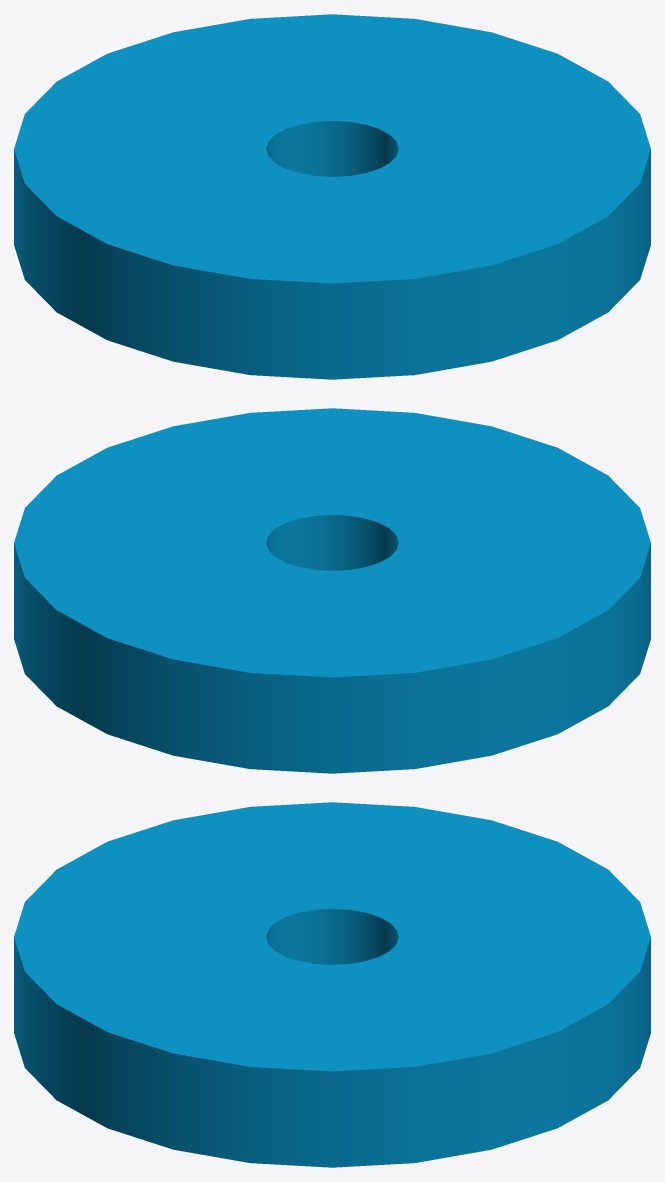
File: disc2.dae
3 views of the same model, one above another, from view 1: azimuth 30°, elevation 25°; view 2: azimuth 150°, elevation 25°; view 3: azimuth 270°, elevation 25° (orthographic).
Visible parts, largest first — view 1: SketchUp (×2); view 2: SketchUp (×2); view 3: SketchUp (×2).
Boxes of the visible parts, x1=… form: SketchUp (×2): x1=14, y1=14, x2=650, y2=379; SketchUp (×2): x1=14, y1=408, x2=650, y2=773; SketchUp (×2): x1=14, y1=802, x2=650, y2=1167.
Size of the model in its own units: 3 by 3 by 0.5.
1 material, 1 textured.
